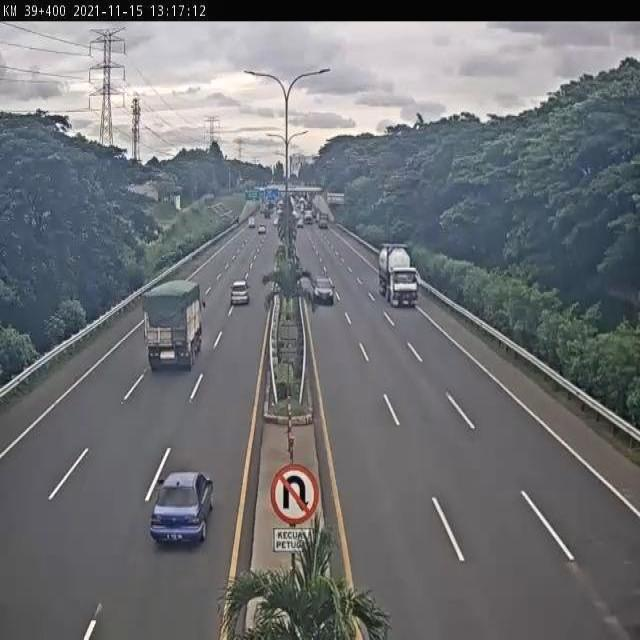Car: (149, 471, 216, 545), (311, 276, 337, 306), (230, 280, 250, 306), (248, 215, 256, 229), (296, 218, 306, 228), (258, 224, 267, 235)
Truck: (142, 280, 208, 370), (376, 240, 421, 310), (318, 212, 329, 230), (302, 209, 314, 225)
